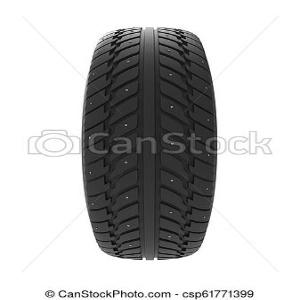tire: (77, 27, 218, 261)
